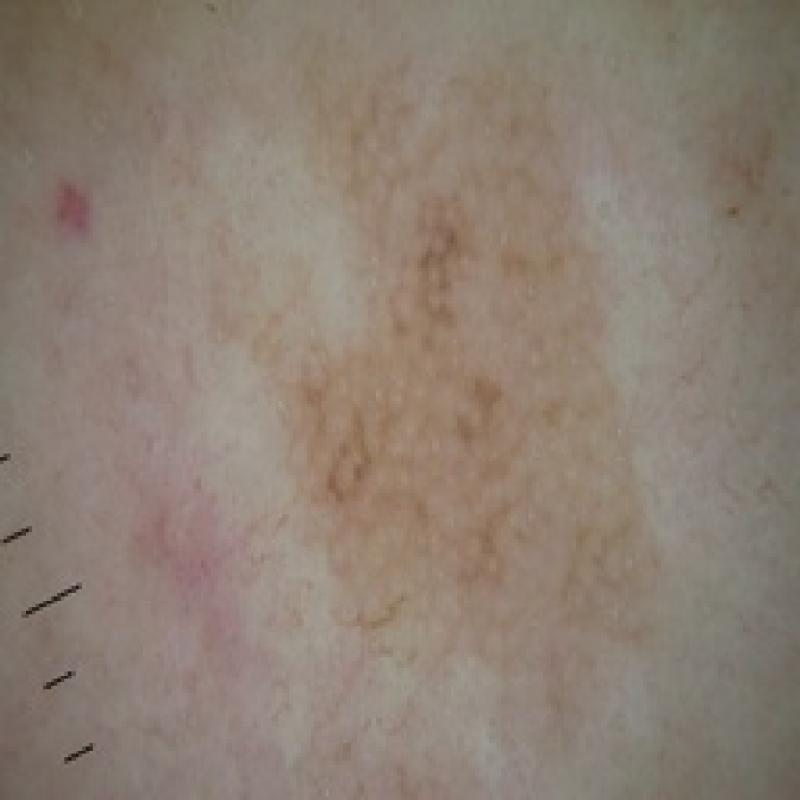malignant: (22, 75, 722, 732)
